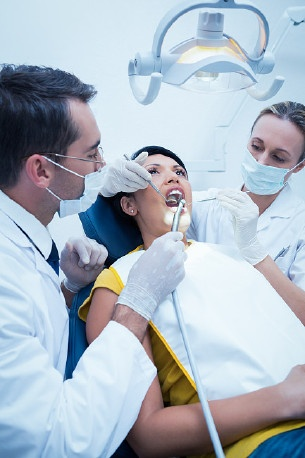Mask: (241, 133, 301, 193)
